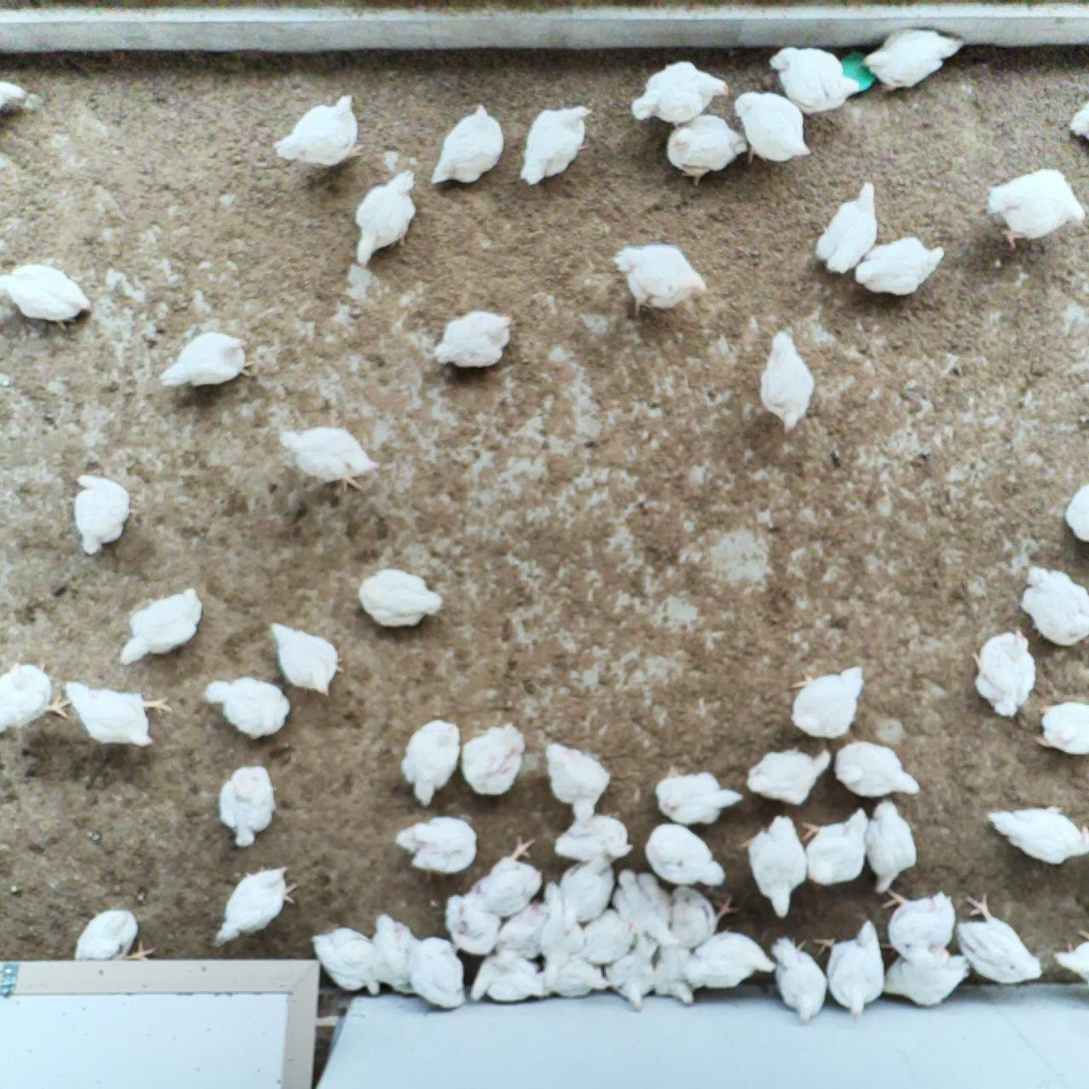chicken: (984, 163, 1088, 252), (953, 890, 1046, 985), (61, 676, 174, 754), (733, 808, 811, 921), (613, 239, 713, 325), (275, 422, 387, 498), (813, 917, 890, 1023), (426, 101, 509, 198), (271, 91, 368, 173), (117, 586, 208, 670), (629, 57, 733, 130), (214, 861, 302, 946), (808, 176, 883, 275), (860, 25, 966, 95), (984, 799, 1089, 869), (351, 166, 421, 270), (463, 834, 547, 920), (766, 44, 862, 118), (0, 261, 95, 335), (519, 101, 598, 189), (758, 325, 820, 436), (269, 617, 350, 701), (665, 110, 751, 189), (851, 231, 949, 300), (730, 89, 815, 168), (878, 887, 958, 970), (69, 471, 141, 563), (682, 927, 778, 996), (154, 329, 259, 392), (392, 813, 482, 885), (786, 664, 869, 742), (971, 627, 1038, 722), (651, 761, 744, 829), (642, 820, 730, 891), (541, 739, 616, 821), (356, 566, 447, 633), (398, 716, 463, 809), (203, 675, 294, 741), (1018, 562, 1089, 646), (801, 804, 871, 889), (769, 931, 830, 1028), (831, 738, 924, 801), (660, 882, 738, 957), (862, 798, 921, 897), (0, 657, 73, 737), (744, 744, 834, 807), (458, 720, 529, 799), (217, 760, 280, 848), (430, 305, 516, 369), (883, 947, 973, 1008), (401, 932, 466, 1013), (308, 924, 382, 995), (610, 864, 675, 943), (70, 904, 157, 962), (369, 909, 423, 998), (539, 879, 583, 986), (442, 885, 503, 961), (559, 855, 616, 934), (603, 934, 660, 1013), (470, 946, 547, 1002), (551, 812, 636, 861), (575, 909, 638, 964), (494, 900, 551, 960), (1033, 694, 1089, 755), (654, 945, 705, 1006), (537, 964, 615, 1000), (1050, 927, 1089, 984), (1061, 481, 1089, 543), (1067, 98, 1089, 143)
